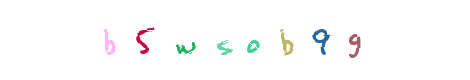5: (145, 0, 225, 80)
9: (278, 0, 358, 80)
B: (103, 0, 183, 80), (248, 0, 328, 80)
G: (281, 0, 361, 80)
O: (201, 0, 281, 80)
S: (194, 0, 274, 80)
W: (146, 0, 226, 80)
